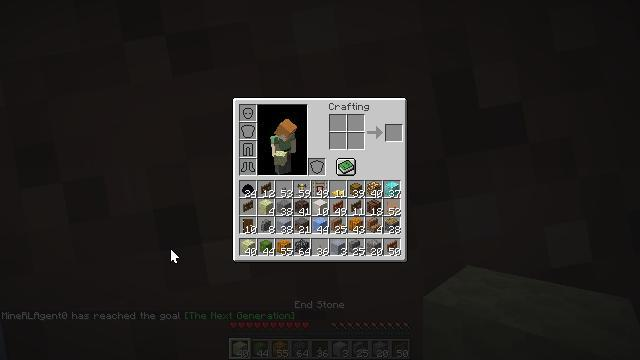cursor: (248, 170, 264, 180)
